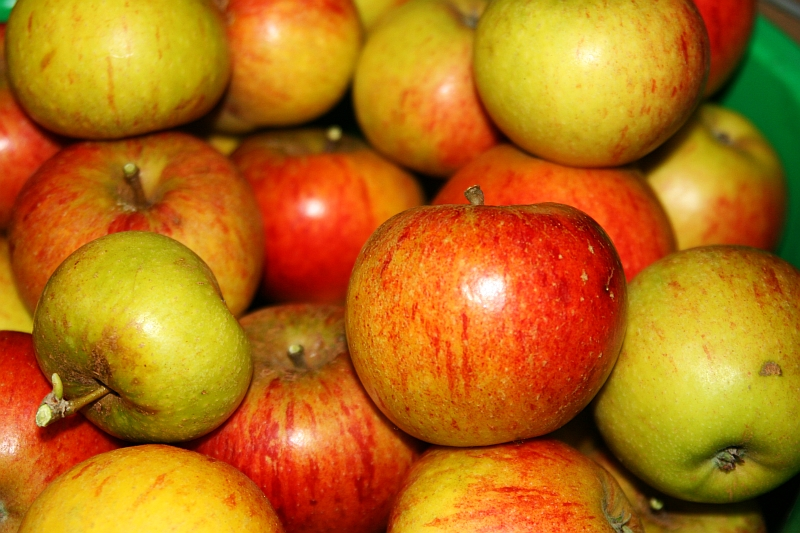apple: (336, 197, 632, 451), (27, 228, 255, 447)
